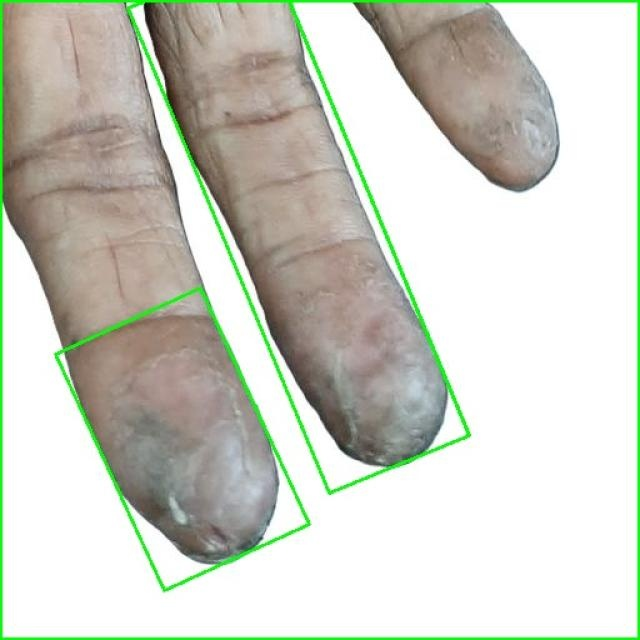Contact Dermatitis: (0, 0, 639, 639), (128, 0, 469, 494), (56, 288, 310, 591)
